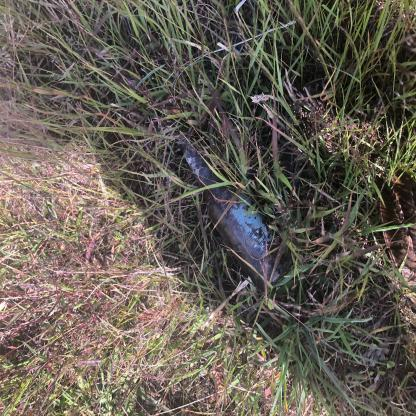trash: (83, 231, 221, 398)
